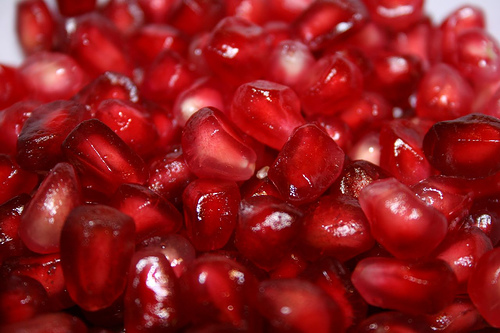pomogranate: (1, 0, 499, 331)
